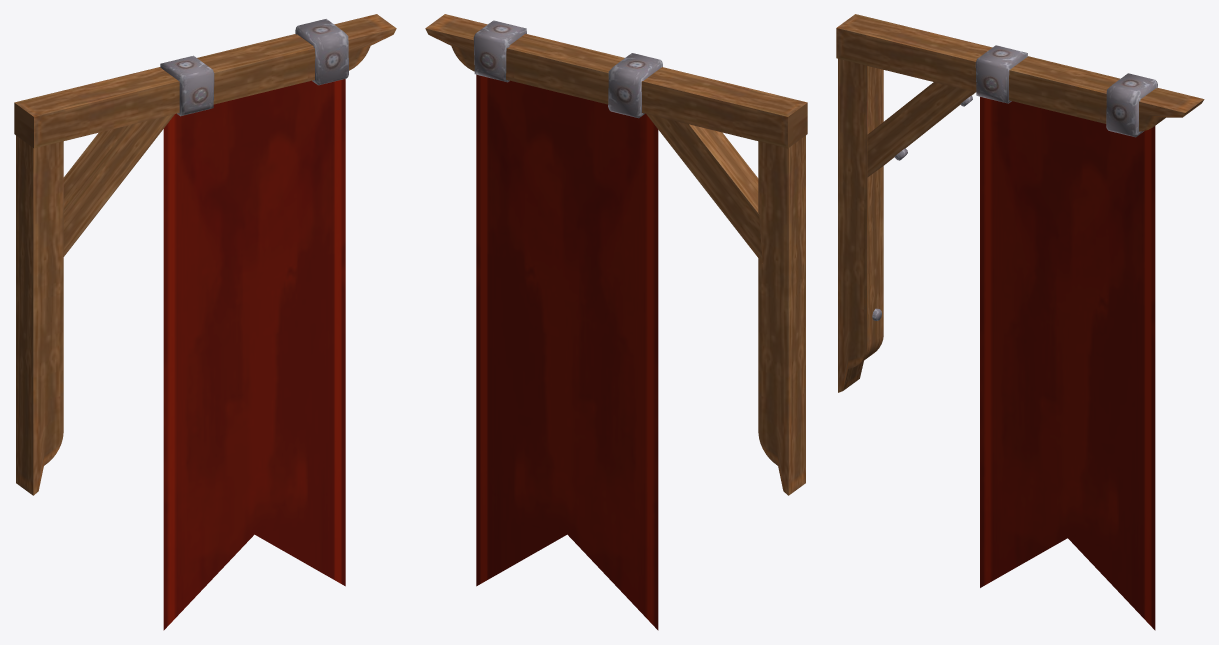
The model's file is banner_1.glb.
3 views of the same model, side by side, from view 1: azimuth 30°, elevation 25°; view 2: azimuth 150°, elevation 25°; view 3: azimuth 330°, elevation 25° (orthographic). The views are drawn at different scales.
Parts seen in each view (by area): view 1: Banner_1; view 2: Banner_1; view 3: Banner_1.
Part boxes in pixels (box(x1,y1,x2,y2)): Banner_1: box(14, 14, 396, 630); Banner_1: box(425, 14, 807, 630); Banner_1: box(836, 14, 1204, 630).
Size of the model in its own units: 1.61 by 2.39 by 0.1907.
Materials: 3 (3 with a texture image).
